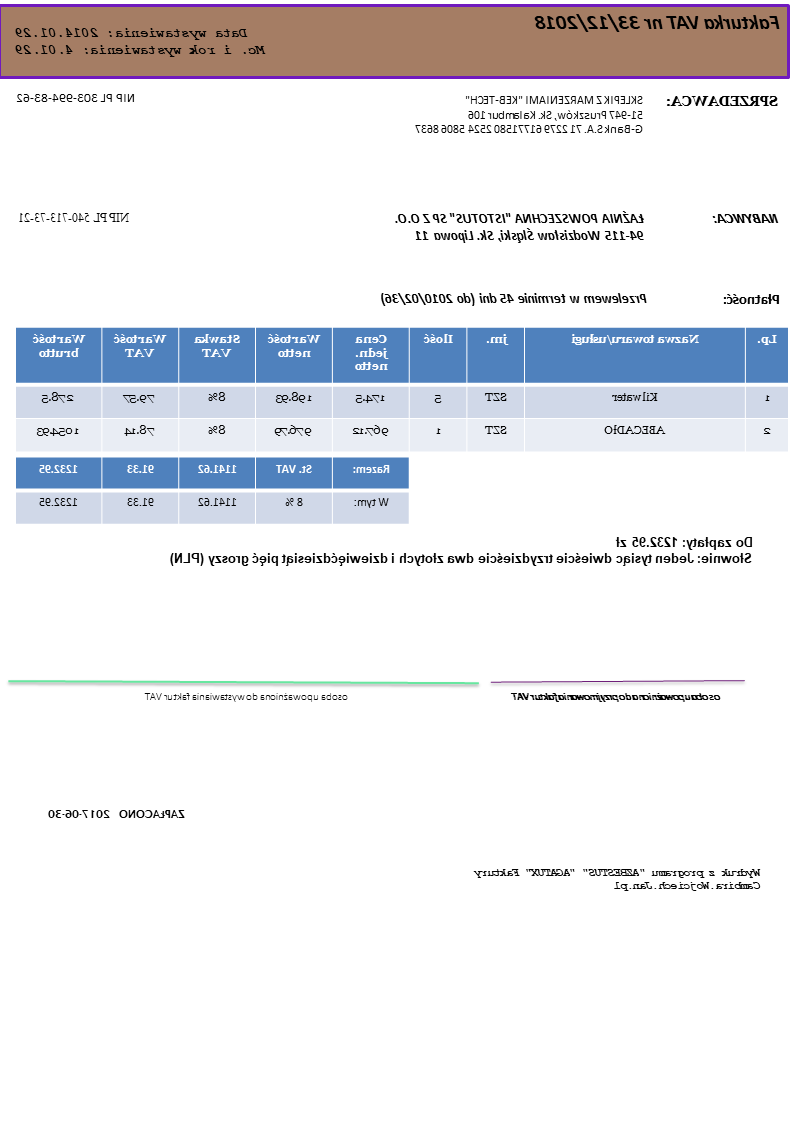Table: (15, 324, 791, 451), (15, 455, 412, 526)
TextBox: (167, 533, 756, 570), (413, 90, 646, 139), (13, 23, 270, 60), (391, 209, 648, 245), (470, 863, 763, 894), (532, 8, 784, 35), (379, 290, 650, 307), (511, 688, 724, 705), (141, 689, 352, 704), (45, 805, 188, 823), (666, 91, 782, 111), (14, 88, 138, 106), (15, 208, 134, 226), (712, 210, 782, 228), (721, 290, 784, 308)
